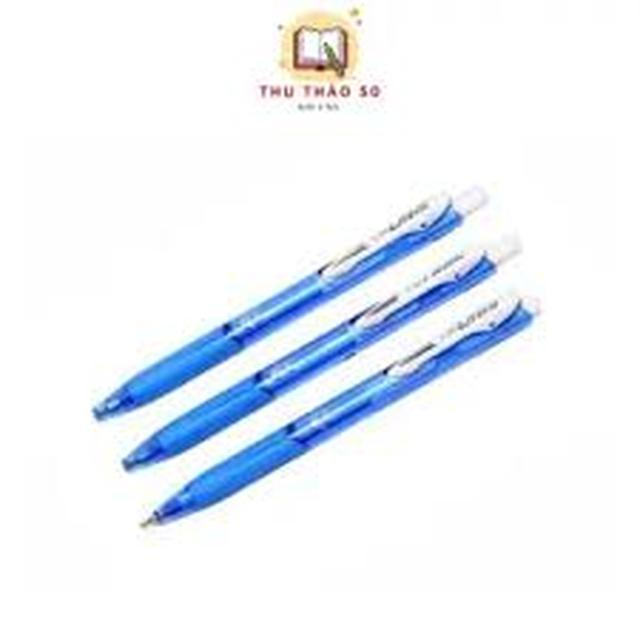pen: (123, 267, 584, 547), (58, 159, 514, 440), (89, 211, 552, 485)
